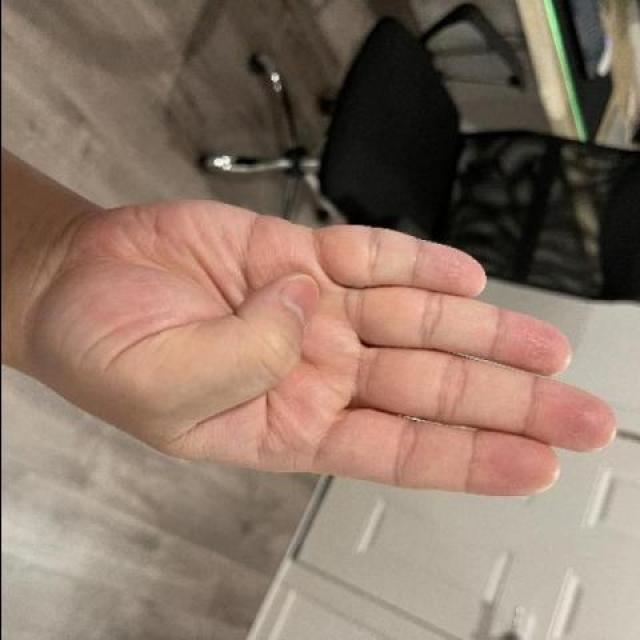Open Hand: (30, 195, 623, 501)
